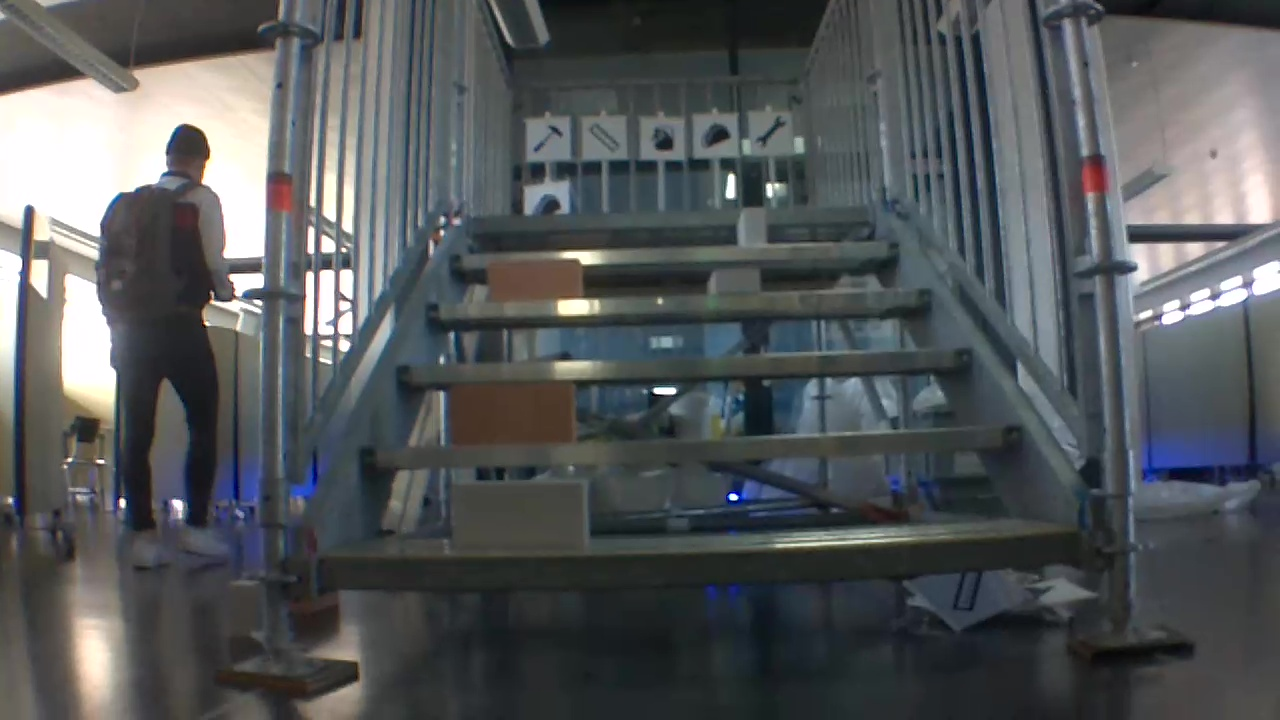brick: (451, 481, 586, 548), (452, 381, 574, 441), (489, 258, 580, 298), (228, 577, 262, 637), (708, 268, 759, 292), (738, 206, 766, 245)
bucket: (647, 121, 677, 153)
edge: (317, 535, 1071, 583), (362, 425, 1019, 463), (396, 344, 972, 383), (426, 288, 934, 317), (451, 243, 900, 264), (466, 205, 873, 227)
hammer: (530, 120, 565, 157)
ruler: (586, 120, 622, 154)
stairs: (211, 3, 1195, 690)
steps: (310, 192, 1079, 597)
taco: (525, 188, 566, 217), (696, 118, 732, 149)
wrench: (751, 112, 791, 151)
